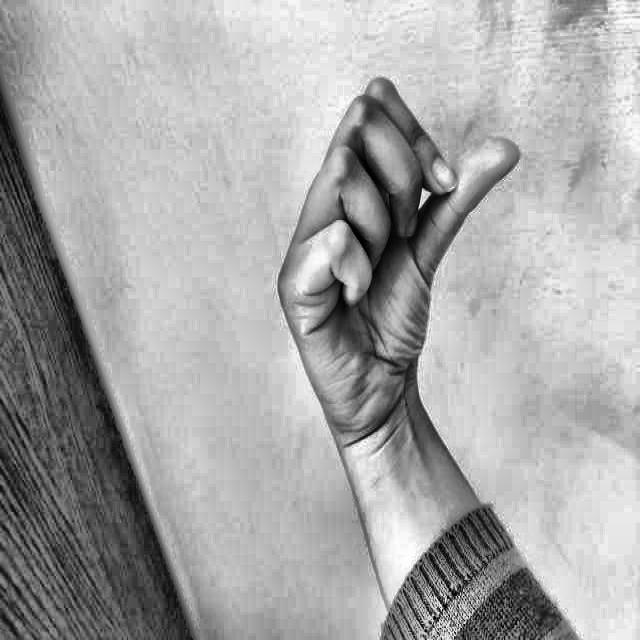Ay: (254, 55, 532, 456)
